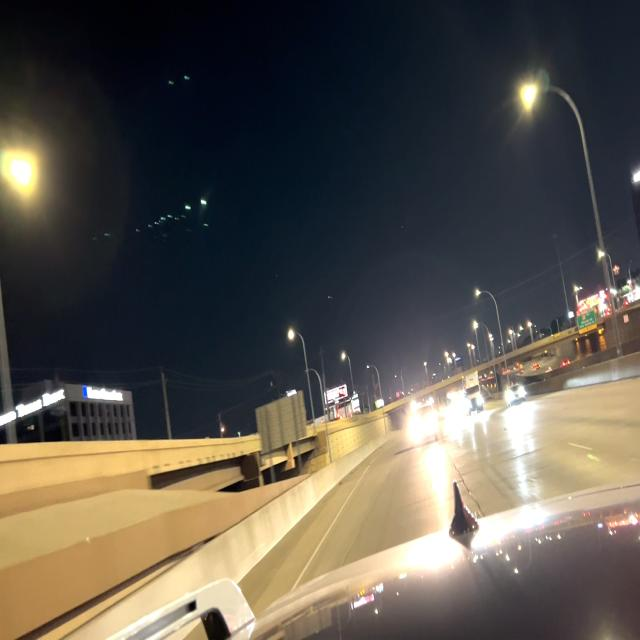back-of-sign: (255, 389, 309, 454)
